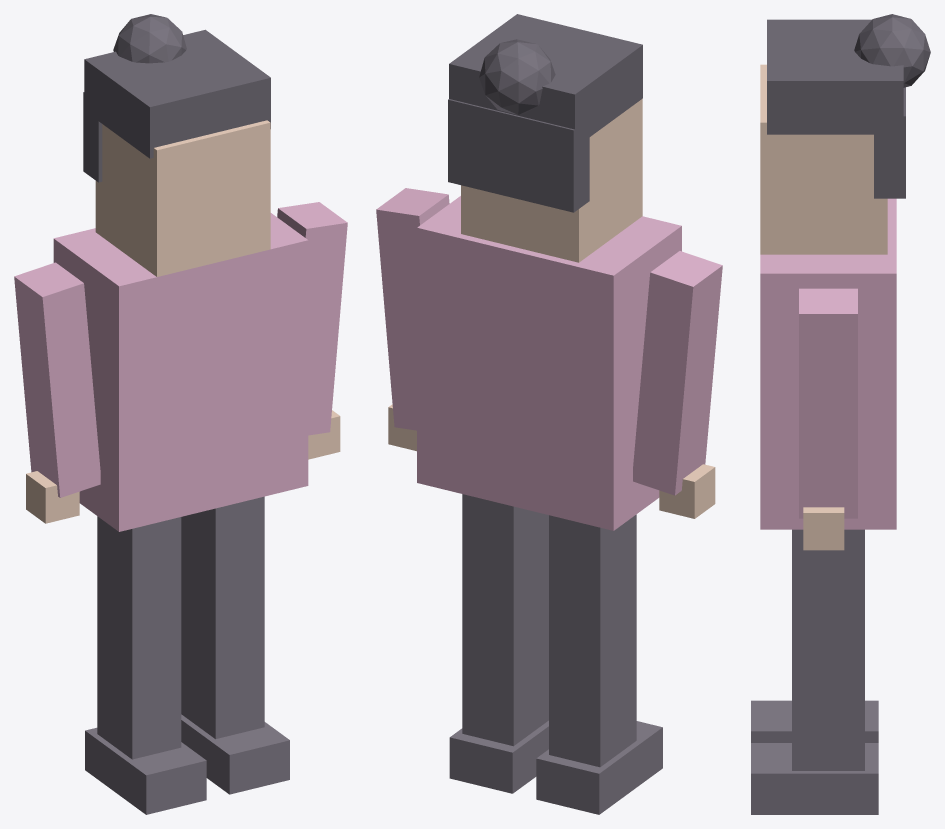
The model's file is customer_b.glb.
The picture shows the model from 3 angles, left to right: view 1: azimuth 30°, elevation 25°; view 2: azimuth 150°, elevation 25°; view 3: azimuth 270°, elevation 25°; orthographic projection. The views are drawn at different scales.
Visible parts, largest first — view 1: p4, p9, p1, p3, p5, p10, p7, p0, p2, p12, p6, p11 (+1 smaller); view 2: p4, p1, p3, p5, p9, p10, p11, p7, p0, p2, p12, p6 (+1 smaller); view 3: p4, p3, p9, p10, p7, p2, p12, p0, p11, p8.
Boxes of the visible parts, x1=… form: p4: x1=53, y1=213, x2=308, y2=531; p9: x1=95, y1=120, x2=270, y2=276; p1: x1=97, y1=516, x2=181, y2=759; p3: x1=181, y1=496, x2=264, y2=739; p5: x1=14, y1=262, x2=100, y2=497; p10: x1=84, y1=29, x2=270, y2=158; p7: x1=277, y1=202, x2=347, y2=435; p0: x1=85, y1=727, x2=206, y2=814; p2: x1=181, y1=714, x2=289, y2=794; p12: x1=113, y1=14, x2=186, y2=63; p6: x1=26, y1=471, x2=79, y2=523; p11: x1=83, y1=92, x2=102, y2=182; p4: x1=417, y1=196, x2=681, y2=530; p1: x1=549, y1=514, x2=636, y2=767; p3: x1=462, y1=494, x2=548, y2=746; p5: x1=633, y1=251, x2=722, y2=495; p9: x1=461, y1=99, x2=642, y2=262; p10: x1=449, y1=14, x2=642, y2=144; p11: x1=448, y1=99, x2=589, y2=212; p7: x1=376, y1=188, x2=449, y2=430; p0: x1=536, y1=721, x2=662, y2=814; p2: x1=449, y1=720, x2=548, y2=793; p12: x1=479, y1=39, x2=555, y2=114; p6: x1=659, y1=464, x2=715, y2=518; p4: x1=760, y1=198, x2=896, y2=529; p3: x1=792, y1=529, x2=864, y2=770; p9: x1=760, y1=64, x2=887, y2=254; p10: x1=767, y1=19, x2=903, y2=134; p7: x1=799, y1=288, x2=857, y2=518; p2: x1=751, y1=743, x2=878, y2=814; p12: x1=854, y1=14, x2=930, y2=87; p0: x1=751, y1=700, x2=878, y2=742; p11: x1=874, y1=87, x2=905, y2=198; p8: x1=803, y1=507, x2=844, y2=550.
Bounding box in the file's own units: 0.8063 × 1.85 × 0.395.
